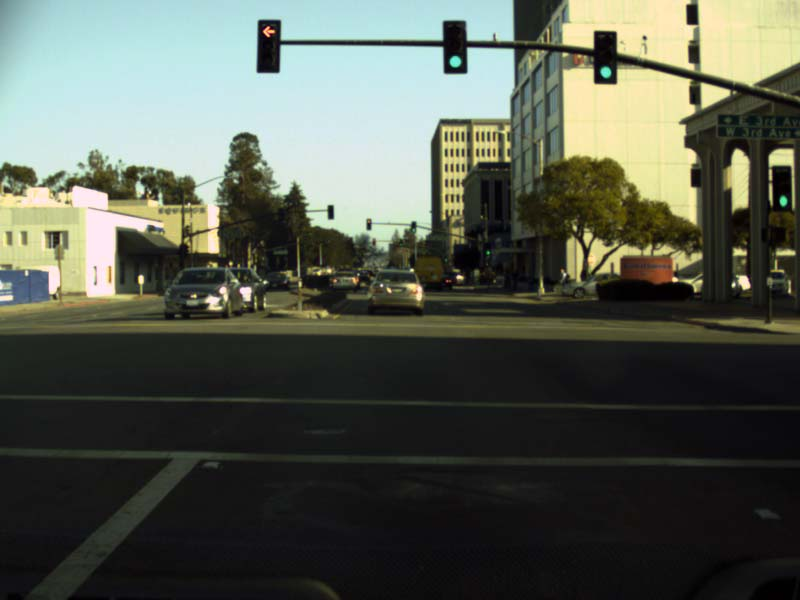Green: (442, 19, 467, 71), (594, 30, 617, 82), (772, 167, 790, 211), (484, 241, 491, 257), (411, 221, 415, 232), (444, 252, 447, 263), (399, 238, 402, 246)
Red: (256, 21, 280, 71), (365, 218, 371, 230), (372, 238, 375, 244)
